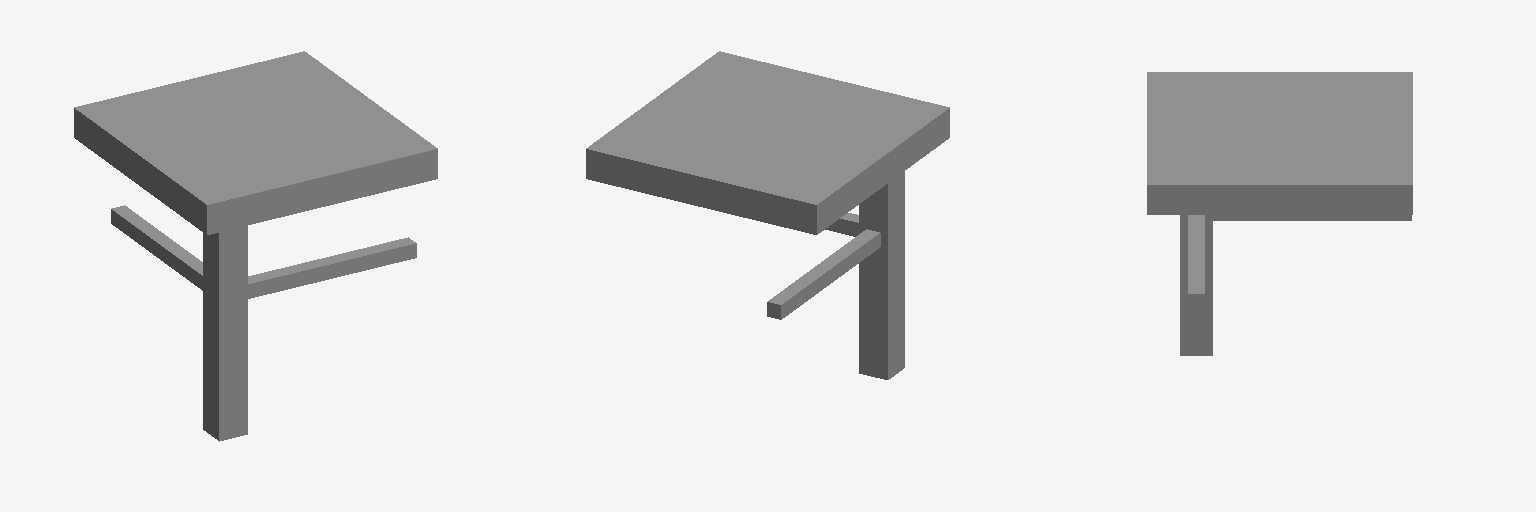
The model's file is kitchen_table1.obj.
3 views of the same model, side by side, from view 1: azimuth 30°, elevation 25°; view 2: azimuth 150°, elevation 25°; view 3: azimuth 270°, elevation 25° (orthographic).
Parts seen in each view (by area): view 1: Cube.000_Cube.002; view 2: Cube.000_Cube.002; view 3: Cube.000_Cube.002.
Boxes of the visible parts, <box> form: Cube.000_Cube.002: <box>74,51,437,441</box>; Cube.000_Cube.002: <box>586,51,949,379</box>; Cube.000_Cube.002: <box>1147,72,1412,355</box>.
Bounding box in the file's own units: 2 × 2.12 × 2.